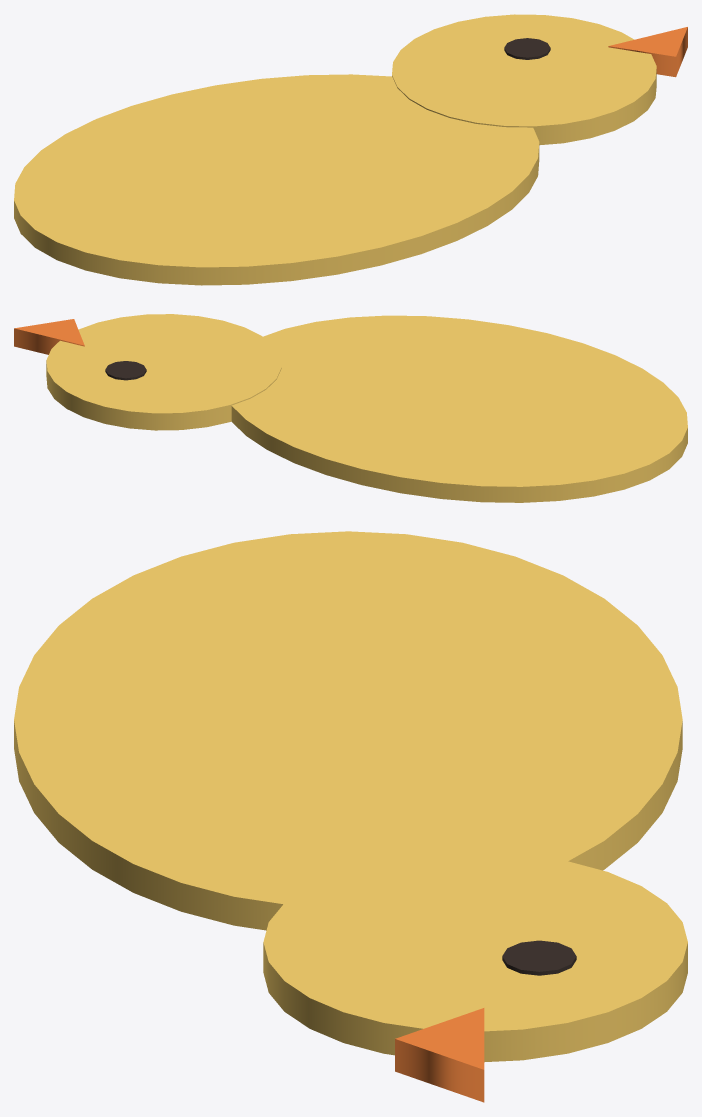
File: bathmat-duck.glb
3 views of the same model, one above another, from view 1: azimuth 30°, elevation 25°; view 2: azimuth 150°, elevation 25°; view 3: azimuth 270°, elevation 25° (orthographic). The views are drawn at different scales.
Size of the model in its own units: 1.21 by 0.036 by 0.635.
